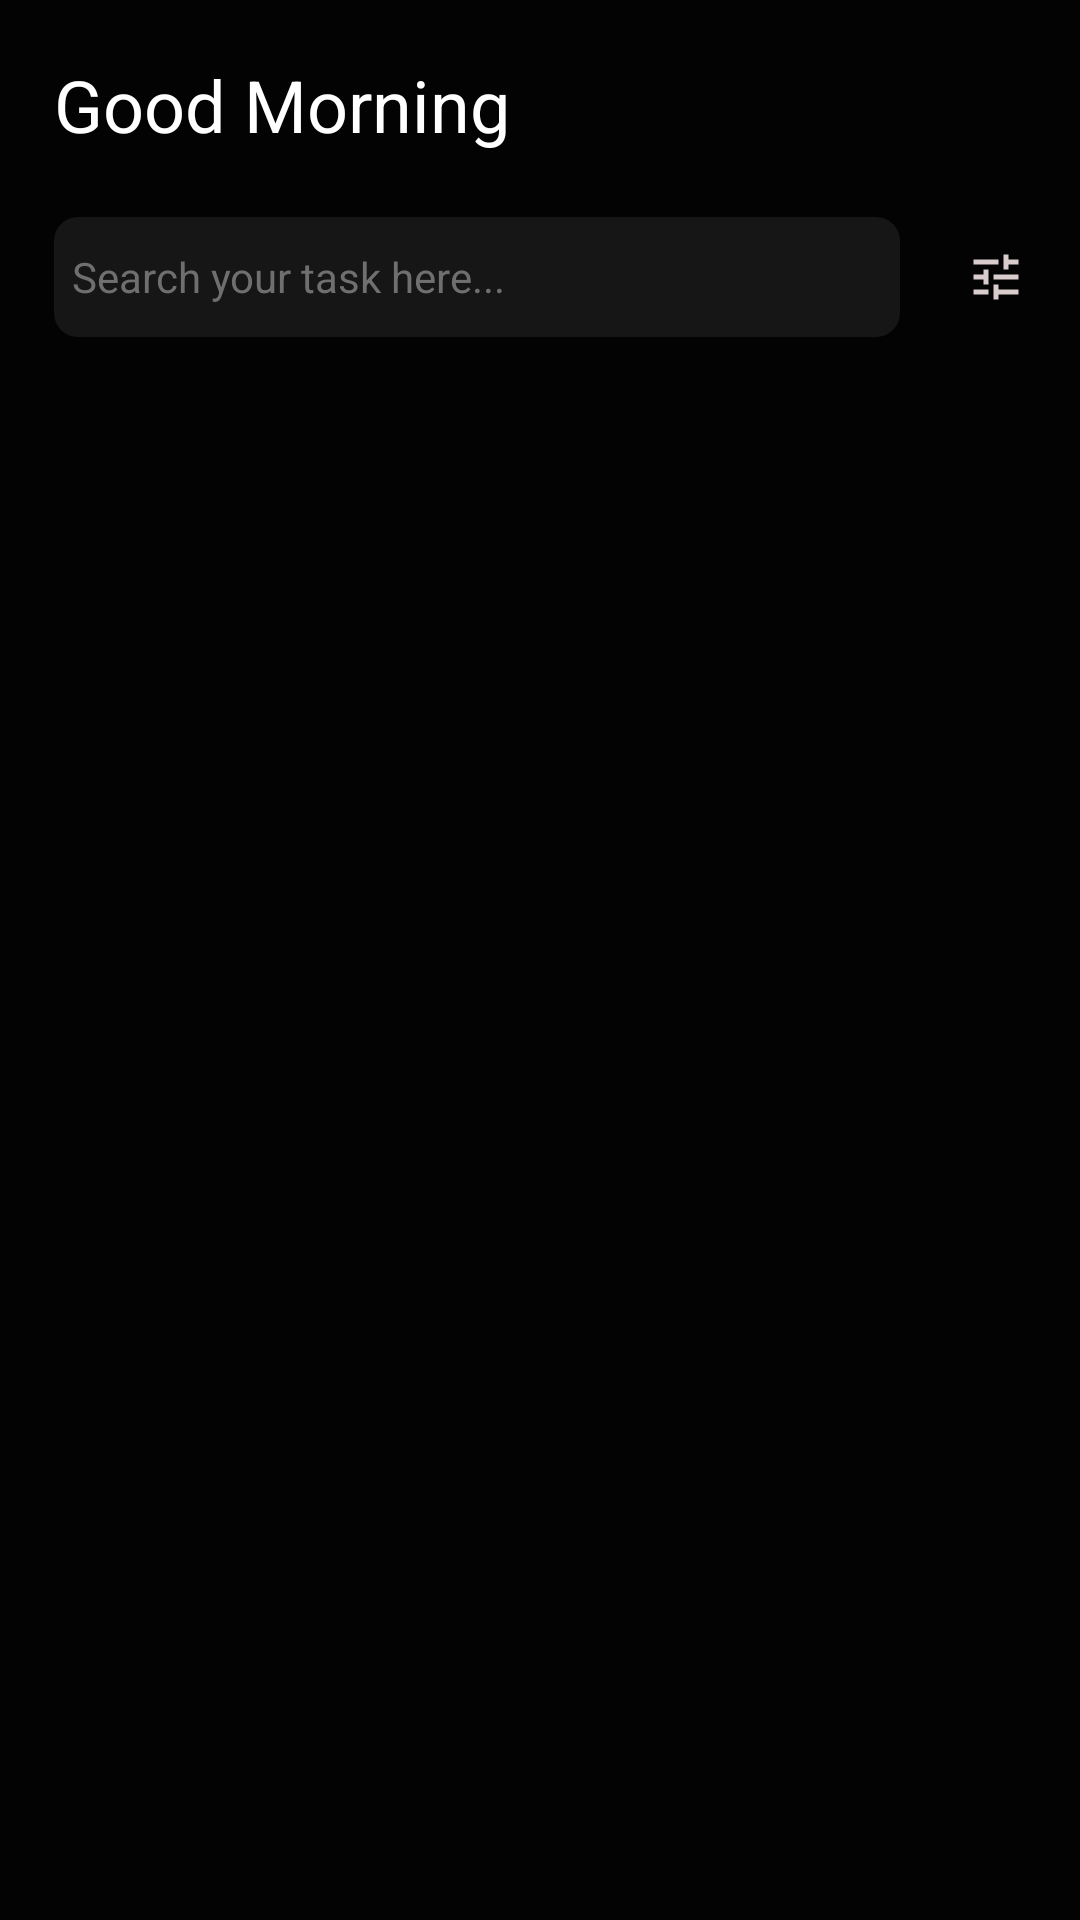

Named icons in this screenshot (1080 × 1920) and their centers, point (x, y):
Settings: point (996, 277)
